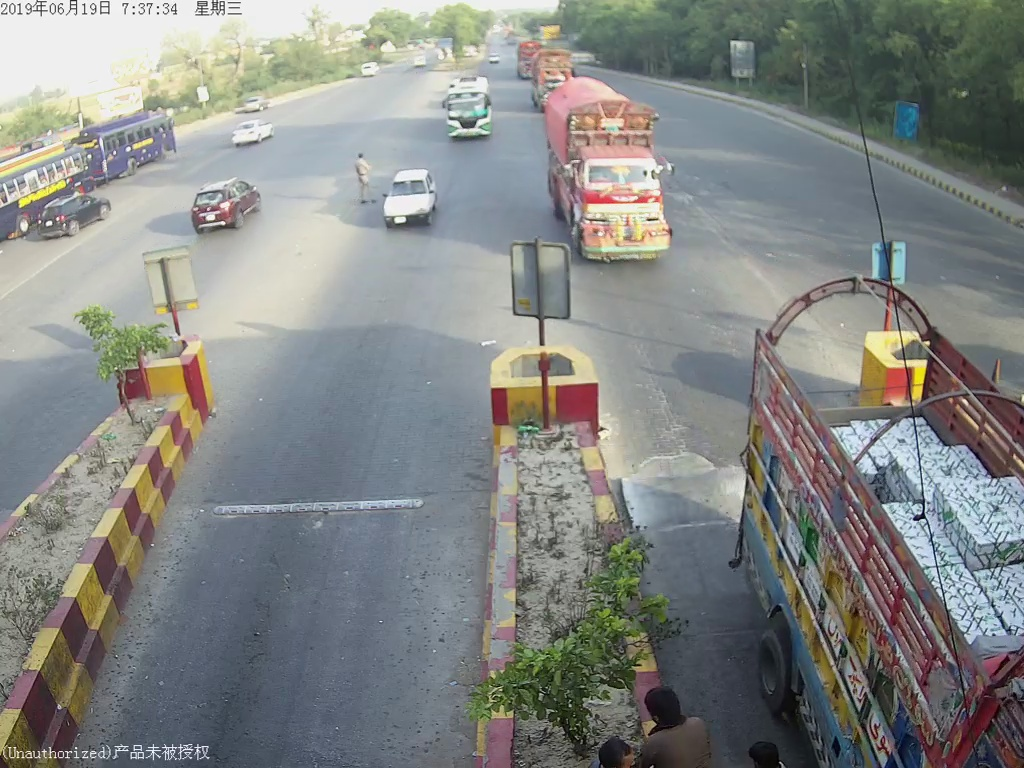Cat-1: (381, 169, 446, 230)
Cat-3: (440, 73, 497, 140)
Cat-4: (546, 80, 673, 265), (529, 51, 575, 108)
